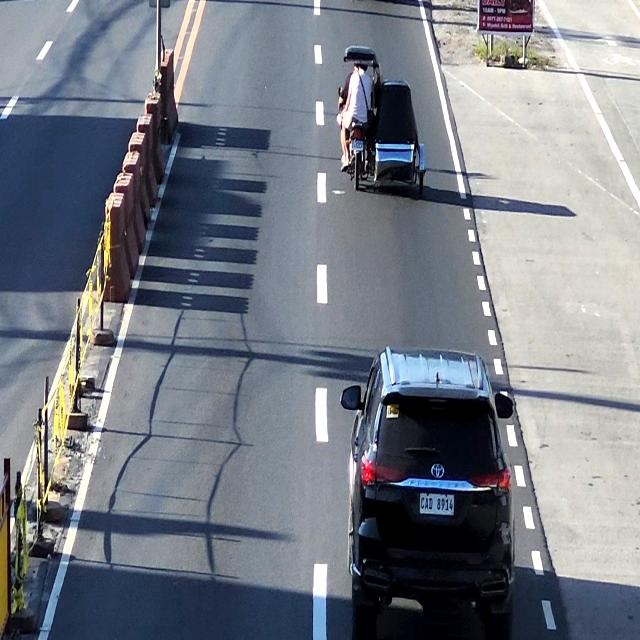Car: (350, 348, 510, 640)
License-Plate: (419, 490, 453, 518), (348, 140, 364, 150)
Tricycle: (340, 48, 429, 195)
